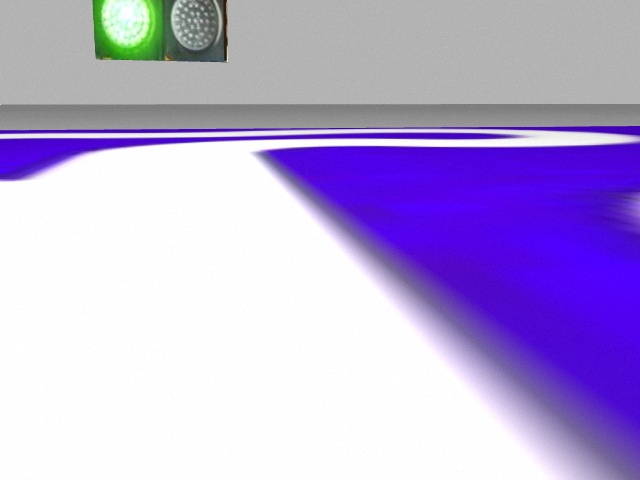green: (93, 1, 164, 59)
